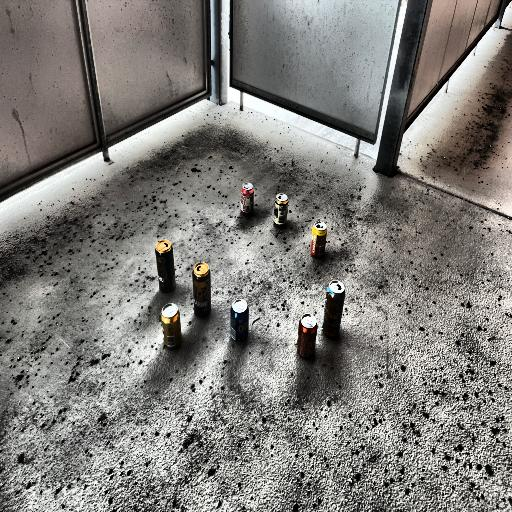A_LeCoq: (152, 302, 187, 352)
coop_larger: (292, 308, 320, 362)
karhu: (144, 227, 176, 297), (190, 261, 216, 320)
koff: (225, 175, 261, 226)
koti: (225, 295, 257, 348)
sandels: (266, 176, 294, 247)
